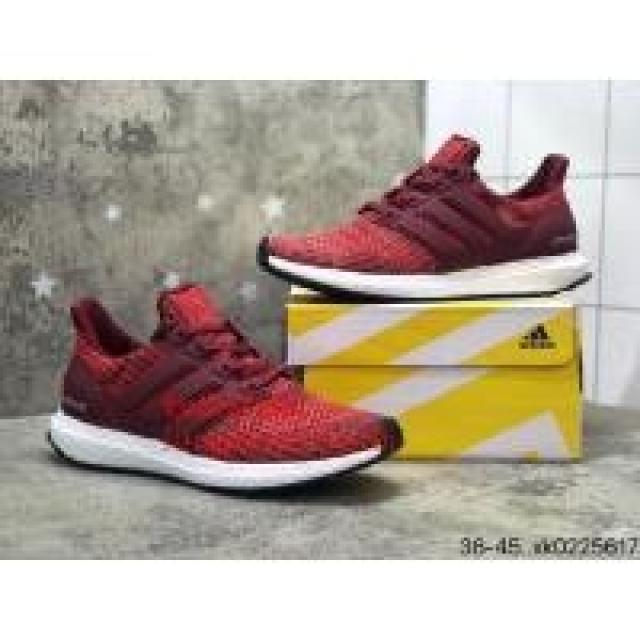shoes: (53, 281, 405, 496), (248, 130, 602, 308)
